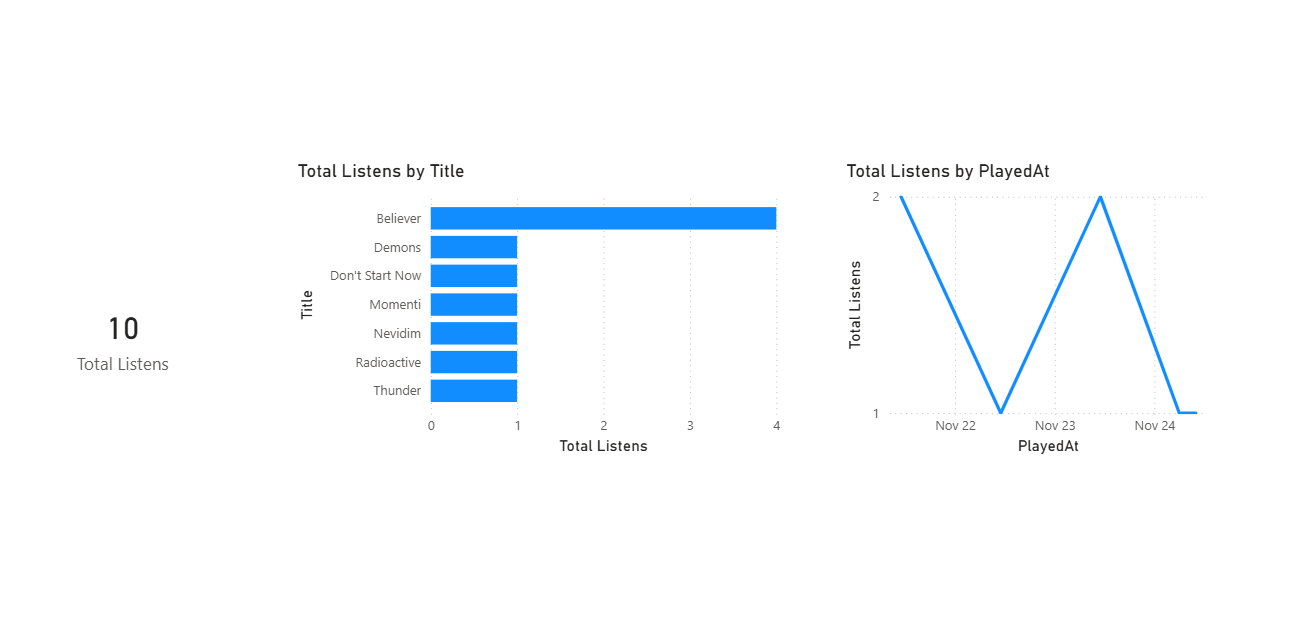

The dashboard page shown, as its layout file describes it:
{"tool":"powerbi","page":{"name":"Page 1","canvas":[1280,720],"ordinal":0},"visuals":[{"type":"card","fields":{"Values":["Listening_History.Total Listens"]},"box":[12,302,280,280],"z":0},{"type":"clusteredBarChart","fields":{"Y":["Listening_History.Total Listens"],"Category":["Track.Title"]},"box":[309.3,276.8,459.2,279.9],"z":1000},{"type":"lineChart","fields":{"Y":["Listening_History.Total Listens"],"Category":["Listening_History.PlayedAt"]},"box":[819.5,276.8,354.1,279.9],"z":2000}]}

Visuals, with their boxes on the page's 1280x720 design canvas (x1, y1, x2, y2). These are canvas units, not pixel positions in the 1302x621 screenshot, which may show the page scaled, cropped or inside an application window:
card - Listening_History.Total Listens: (x1=12, y1=302, x2=292, y2=582)
clusteredBarChart - Listening_History.Total Listens x Track.Title: (x1=309, y1=277, x2=768, y2=557)
lineChart - Listening_History.Total Listens x Listening_History.PlayedAt: (x1=820, y1=277, x2=1174, y2=557)
